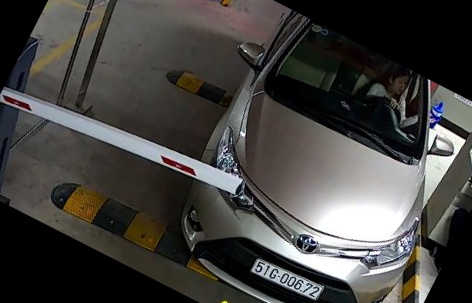plate: (247, 251, 329, 301)
